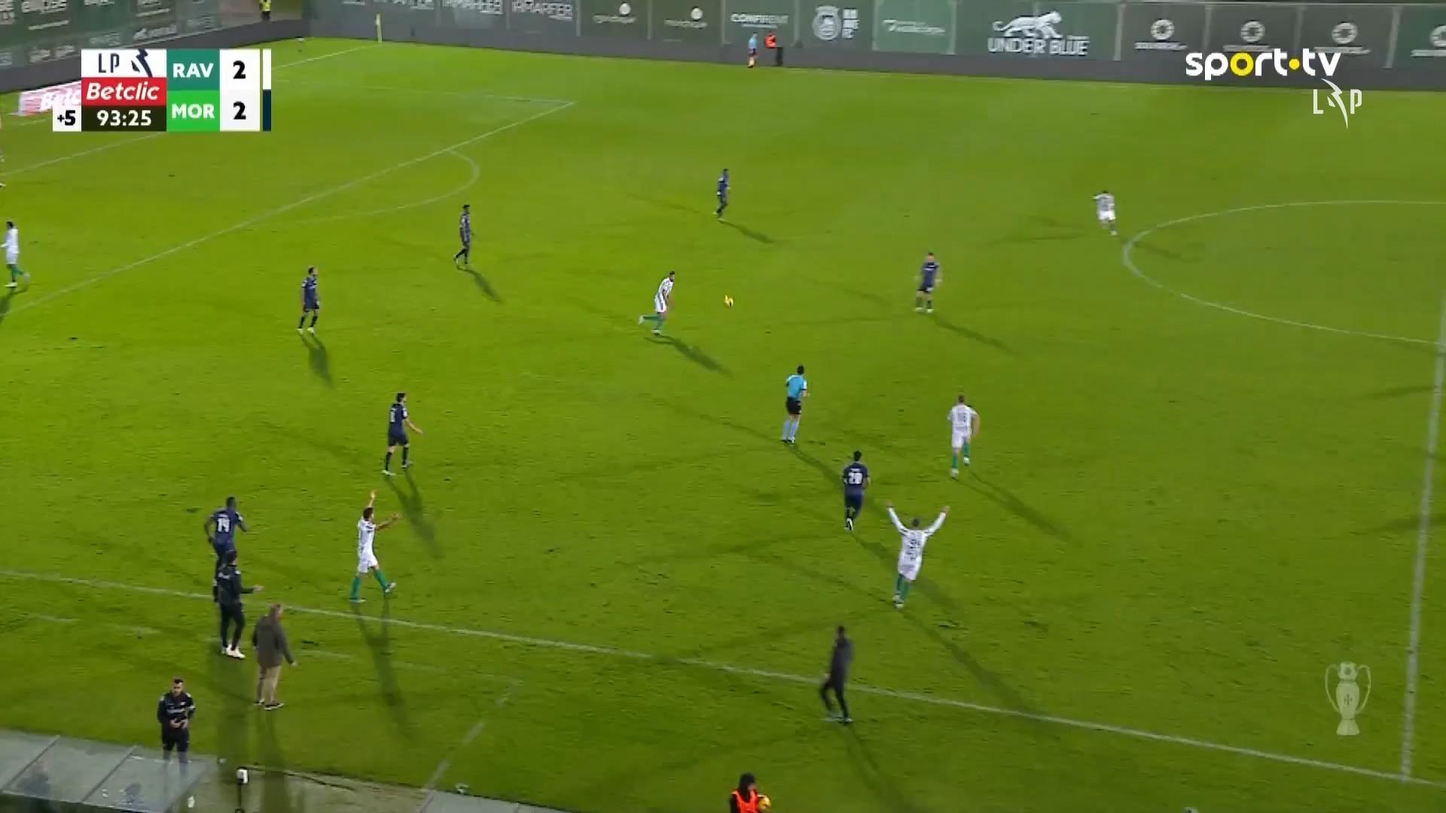ball: (236, 767, 248, 783), (724, 294, 733, 307), (186, 795, 195, 808)
player: (885, 501, 950, 609), (348, 489, 400, 602), (203, 495, 248, 600), (381, 391, 423, 476), (946, 392, 979, 479), (840, 449, 871, 531), (0, 220, 29, 288), (913, 251, 941, 312), (297, 266, 320, 336), (651, 270, 676, 334), (729, 772, 770, 811), (453, 203, 473, 265), (1092, 188, 1118, 234), (713, 167, 731, 218)
referee: (212, 548, 264, 659), (251, 602, 298, 709), (817, 625, 854, 723), (156, 677, 196, 758), (781, 364, 809, 444), (746, 31, 758, 68)
